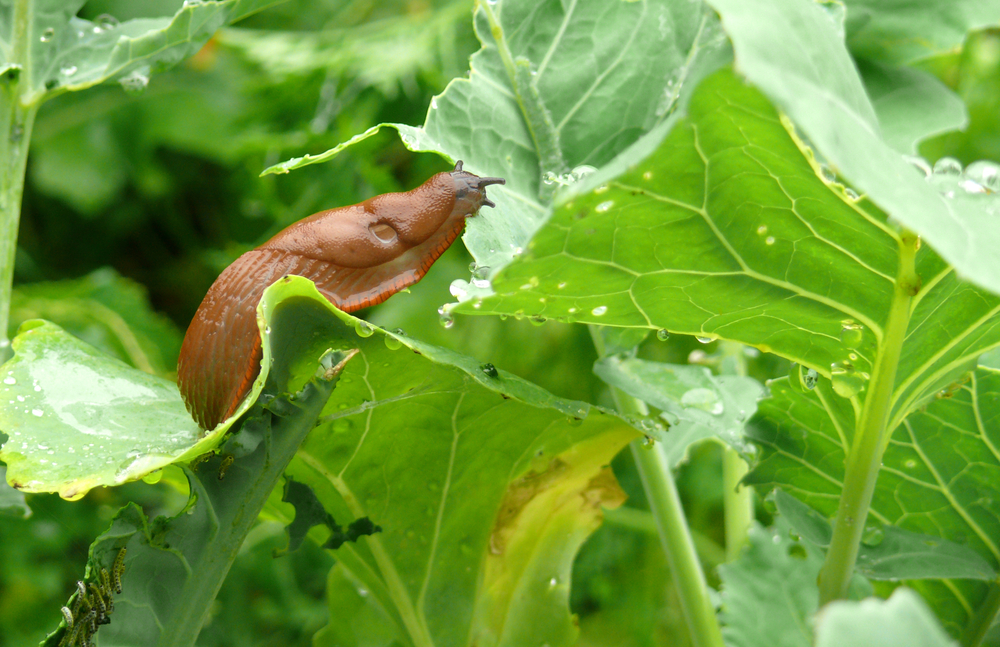slug: (172, 160, 509, 439)
